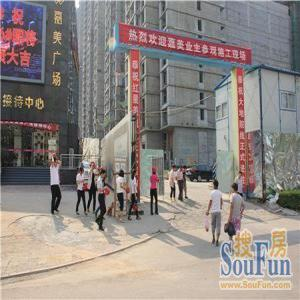none: (232, 183, 239, 196), (213, 179, 220, 190), (100, 169, 107, 180), (52, 157, 59, 168), (118, 170, 125, 180), (132, 170, 138, 179), (80, 167, 85, 176), (238, 172, 243, 179), (172, 165, 177, 172), (184, 165, 188, 173), (181, 164, 185, 172)
red: (152, 167, 158, 176), (91, 161, 97, 170)
